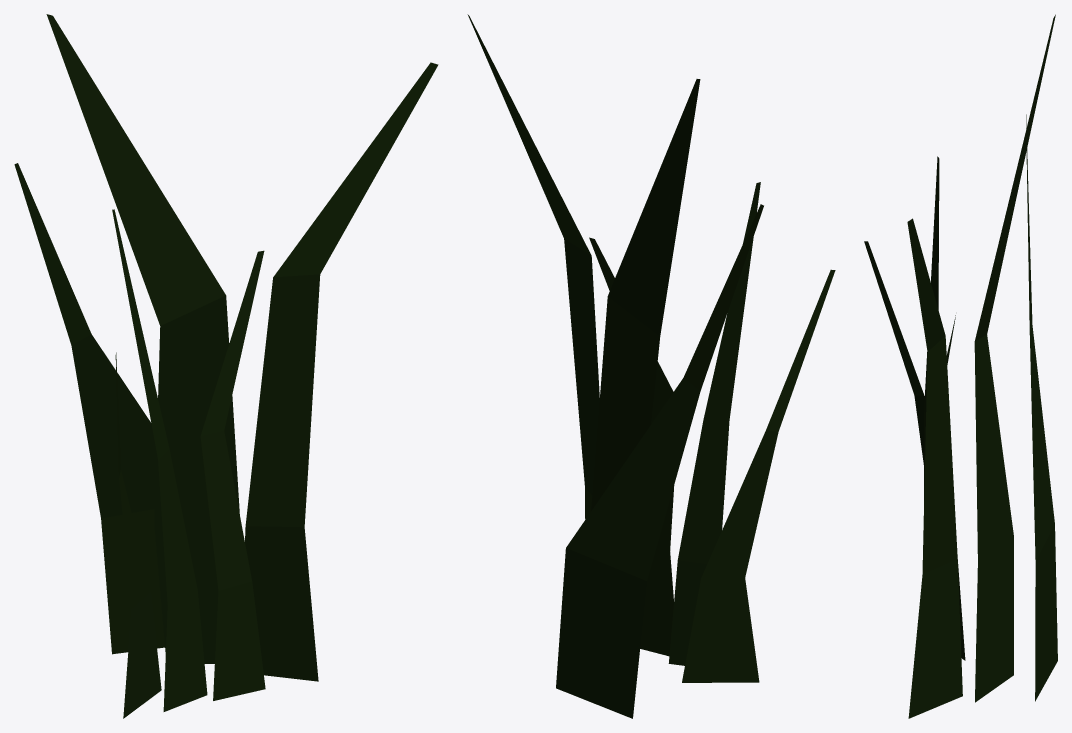
The model's file is HIERBAJO_2.fbx.
3 views of the same model, side by side, from view 1: azimuth 30°, elevation 25°; view 2: azimuth 150°, elevation 25°; view 3: azimuth 270°, elevation 25° (orthographic). The views are drawn at different scales.
Visible parts, largest first — view 1: HIERBAJOS_2; view 2: HIERBAJOS_2; view 3: HIERBAJOS_2.
Part boxes in pixels (x1,y1,x2,y2): HIERBAJOS_2: (14,14,438,718); HIERBAJOS_2: (467,14,835,718); HIERBAJOS_2: (864,14,1057,718).
Bounding box in the file's own units: 25.68 × 44.69 × 12.75.
